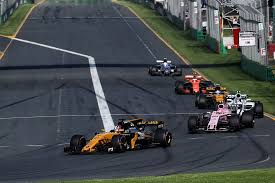FormulaOneCar: (61, 115, 174, 158), (183, 102, 255, 138), (170, 72, 218, 96), (194, 85, 241, 109), (143, 57, 183, 77)
